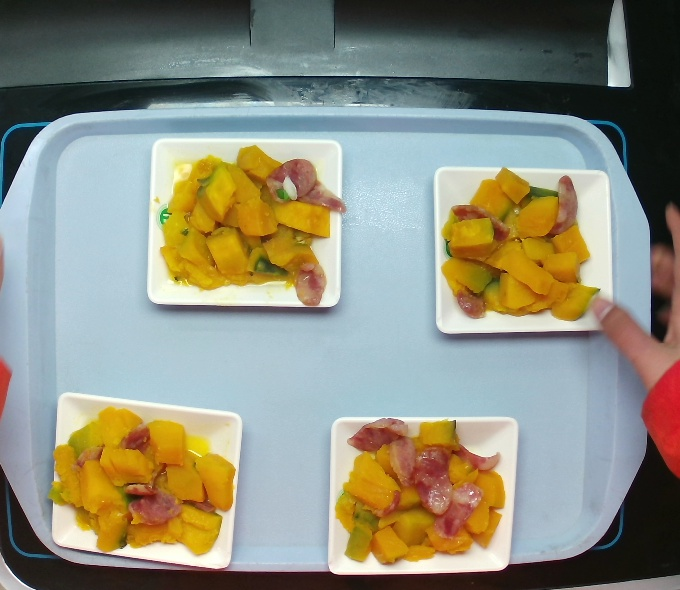wcq-NanGuaChaoXiangChang: (424, 157, 634, 333), (57, 404, 229, 570), (338, 416, 505, 568), (162, 157, 337, 292)
